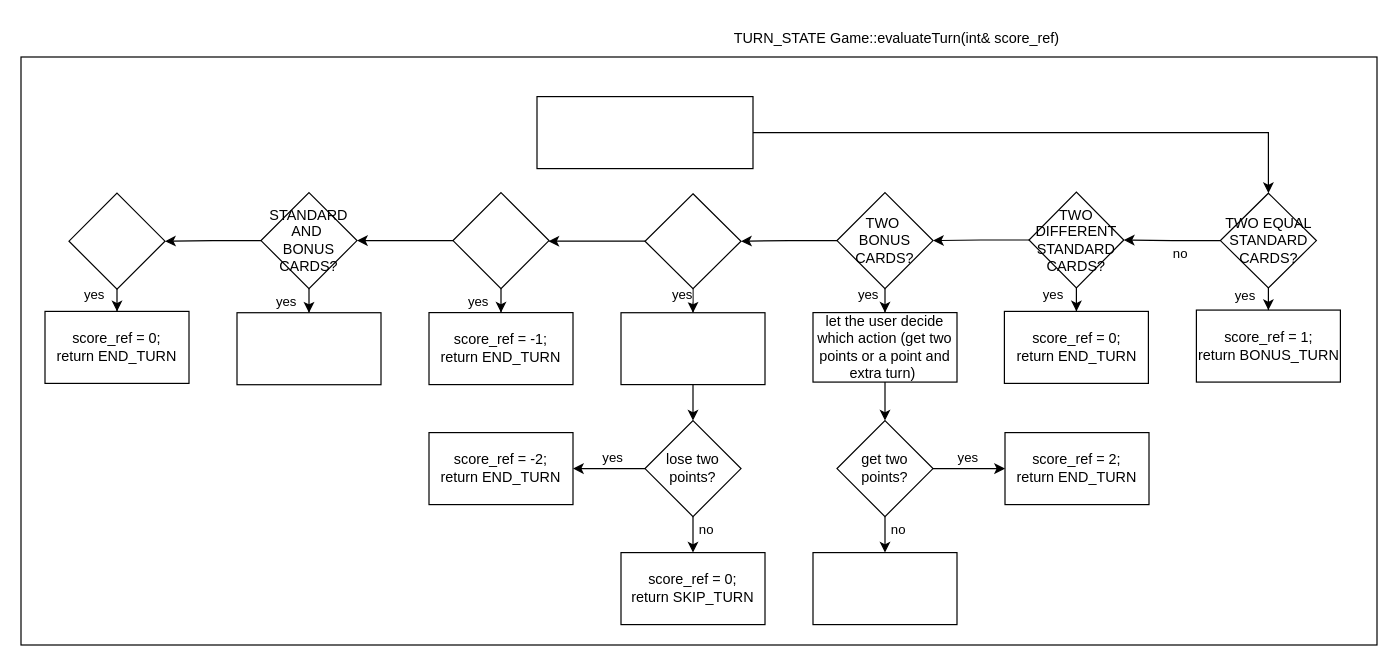
Some shapes in this 1398 by 666 pixel diagram are drawn without their labels. The shapes that lost their labels are listed below. From the top down, each one's box as (x1, y1, x2, y2) in pixels, then its label:
(536, 95, 753, 169): REVEALED_CARDS_EVENT E = deck.evaluateFlippedCards()
(68, 192, 165, 289): BONUS AND PENALTY CARDS?
(452, 191, 549, 289): STANDARD AND PENALTY CARDS?
(644, 193, 741, 289): TWO PENALTY CARDS?
(236, 312, 381, 385): score_ref = 1; return END_TURN
(620, 312, 765, 385): let the user decide which action (lose two points or skip the next turn)
(812, 551, 957, 625): score_ref = 0; return BONUS_TURN
